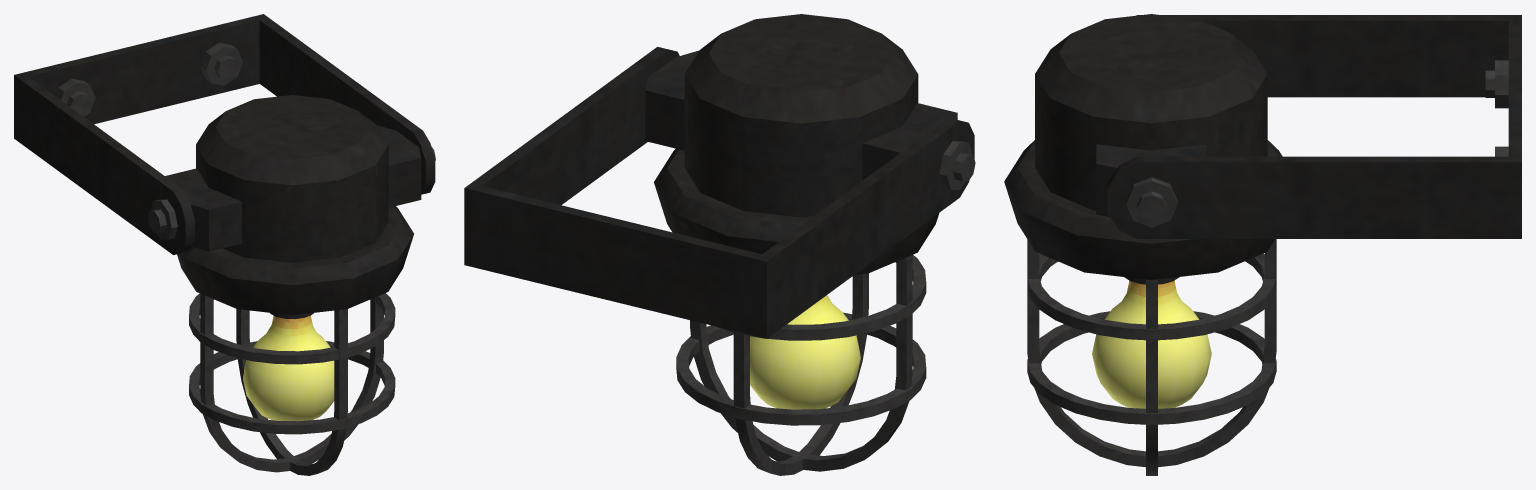
File: lamp_mx_1_a_1_on.obj
The picture shows the model from 3 angles, left to right: view 1: azimuth 30°, elevation 25°; view 2: azimuth 150°, elevation 25°; view 3: azimuth 270°, elevation 25°; orthographic projection. The views are drawn at different scales.
Visible parts, largest first — view 1: lamp_mx_1_a_1_on; view 2: lamp_mx_1_a_1_on; view 3: lamp_mx_1_a_1_on.
Boxes of the visible parts, x1,y1,x2,y2 form: lamp_mx_1_a_1_on: [14, 14, 435, 475]; lamp_mx_1_a_1_on: [464, 14, 975, 475]; lamp_mx_1_a_1_on: [1004, 14, 1521, 475].
Bounding box in the file's own units: 0.2245 × 0.2657 × 0.3023.
